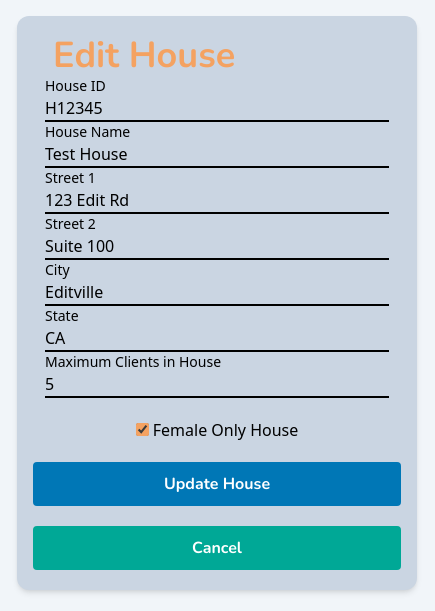
Test case: Edit House › should show field errors returned from the api
The image size is (435, 611).
Step 1. Click the button "Update House" → (217, 484), box left=33, top=462, right=401, bottom=506
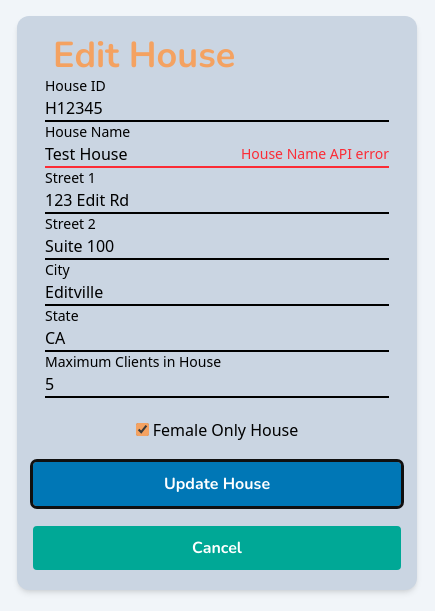
Now the text "House Name API error" is shown, box left=241, top=144, right=389, bottom=164
